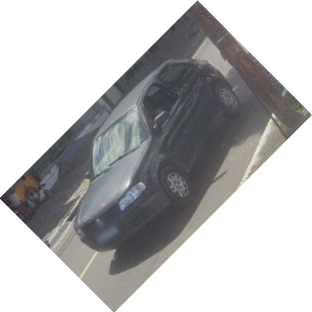car: (70, 57, 239, 253)
